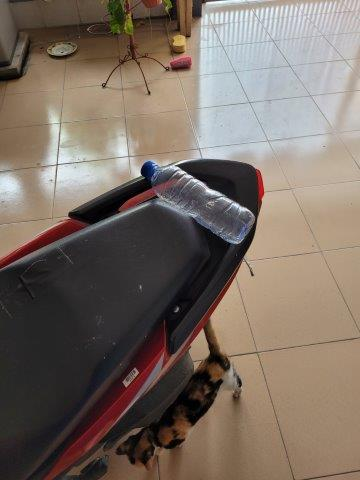botolplastik: (142, 161, 257, 245)
